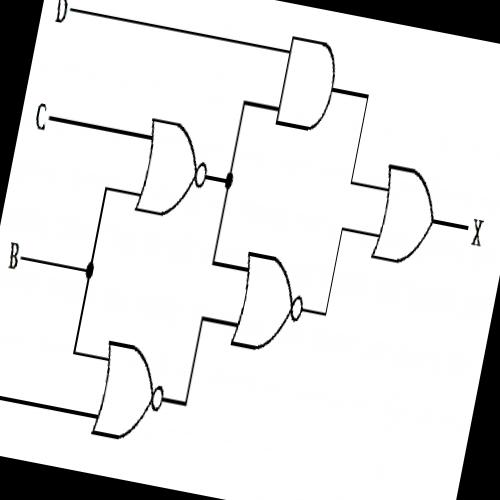and: (268, 26, 348, 144)
nor: (85, 332, 177, 454), (130, 109, 220, 230), (227, 243, 316, 364)
or: (365, 154, 450, 279)
